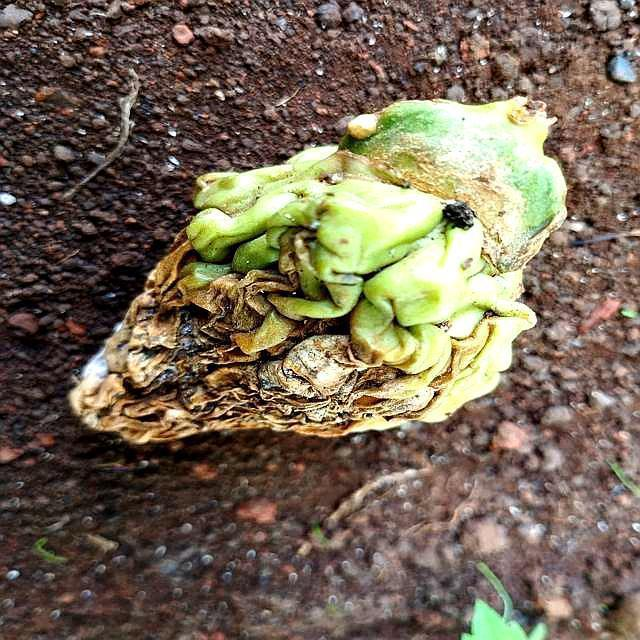Biodegradable: (93, 89, 545, 445)
